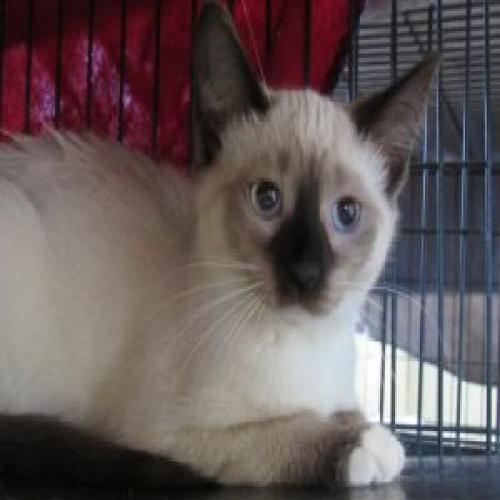siamese: (182, 1, 459, 339)
